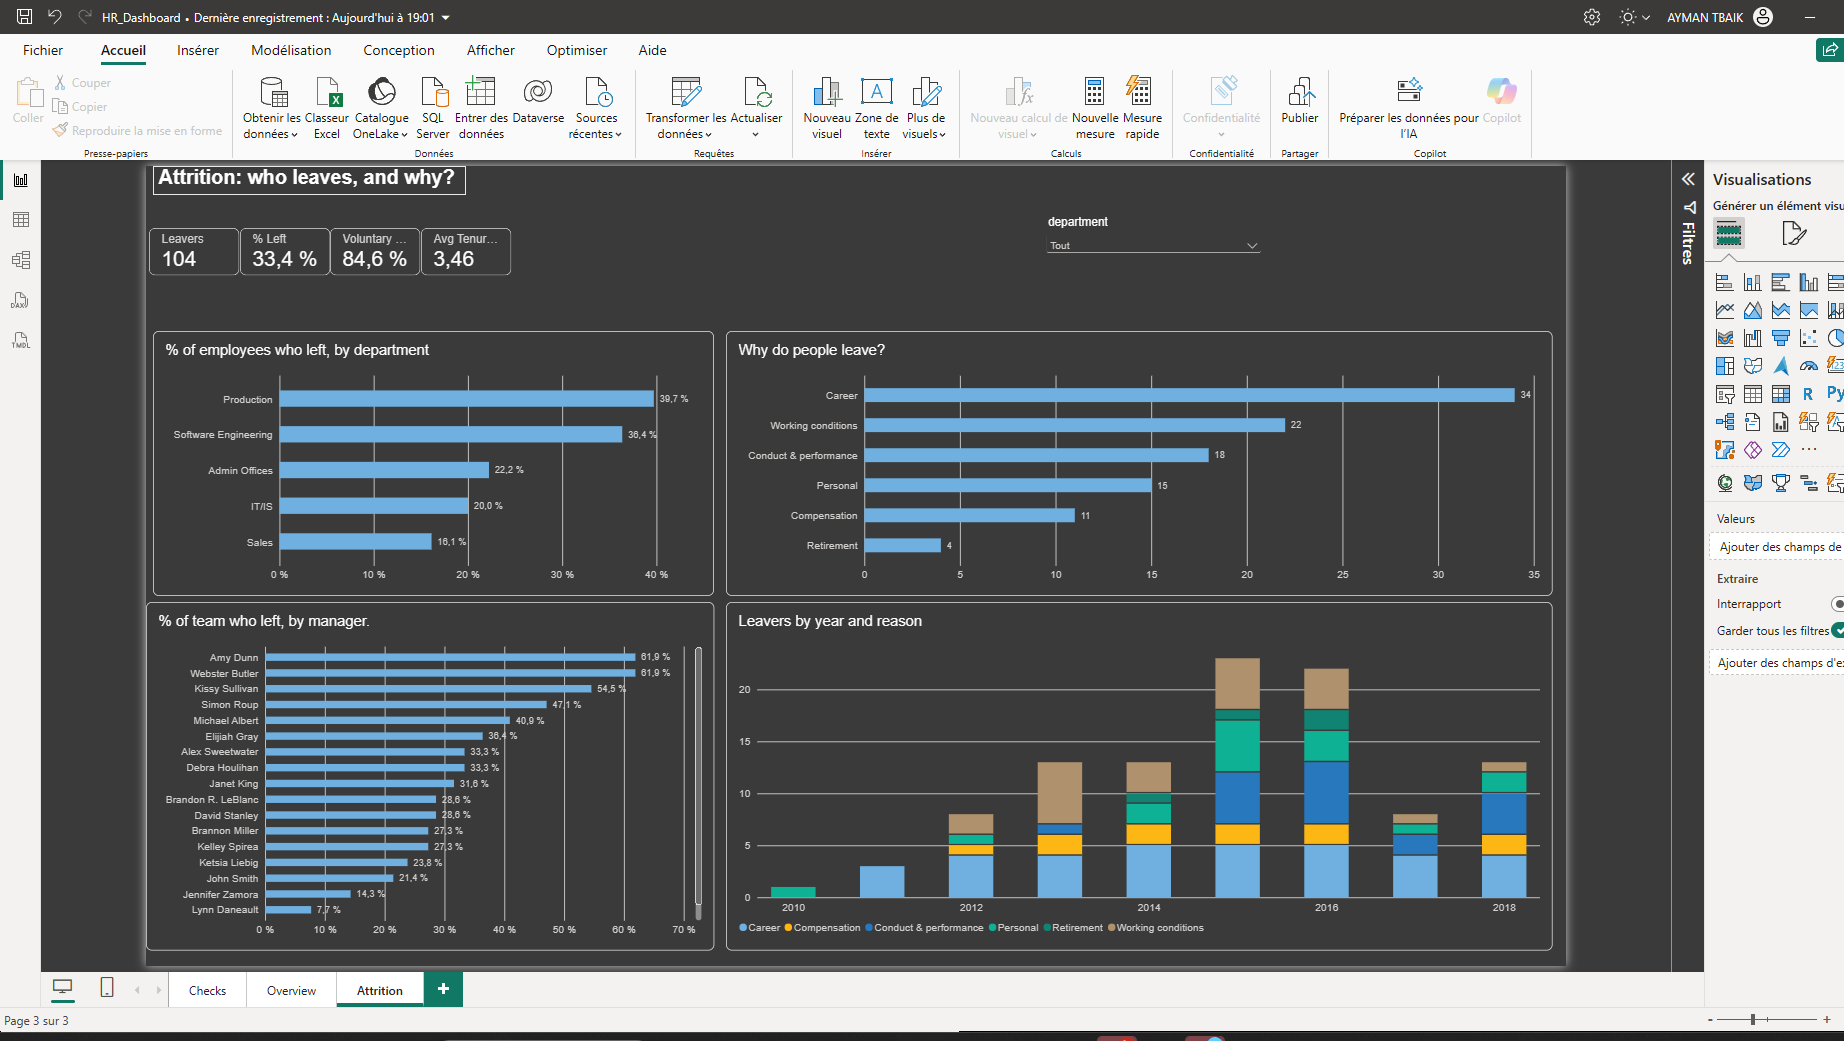

What the dashboard file says about the page in this screenshot:
{"tool":"powerbi","page":{"name":"Attrition","canvas":[1920,1080],"ordinal":2},"visuals":[{"type":"shape","box":[0,0,1920,96],"z":0},{"type":"cardVisual","fields":{"Data":["_Measures.Leavers"]},"box":[36,120,444,135],"z":2000},{"type":"cardVisual","fields":{"Data":["_Measures.% Left"]},"box":[504,120,444,135],"z":3000},{"type":"cardVisual","fields":{"Data":["_Measures.Voluntary Share"]},"box":[972,120,444,135],"z":4000},{"type":"cardVisual","fields":{"Data":["_Measures.Avg Tenure of Leavers"]},"box":[1440,120,444,135],"z":5000},{"type":"clusteredBarChart","title":"Why do people leave?","fields":{"Category":["dim_term_reason.term_reason_category"],"Y":["_Measures.Leavers"]},"box":[972,279,912,377],"z":6000},{"type":"clusteredBarChart","title":"% of employees who left, by department","fields":{"Category":["dim_department.department_name"],"Y":["_Measures.% Left"]},"box":[36,279,912,377],"z":7000},{"type":"clusteredBarChart","title":"% of team who left, by manager.","fields":{"Category":["dim_manager.manager_name"],"Y":["_Measures.% Left"]},"box":[36,680,912,377],"z":8000},{"type":"columnChart","title":"Leavers by year and reason","fields":{"Category":["dim_date.year"],"Series":["dim_term_reason.term_reason_category"],"Y":["_Measures.Leavers by Termination Date"]},"box":[972,680,912,377],"z":9000},{"type":"slicer","fields":{"Values":["dim_date.year"]},"box":[1644,12,240,72],"z":10000},{"type":"slicer","fields":{"Values":["dim_department.department_name"]},"box":[1320,12,300,72],"z":11000}]}

Visuals, with their boxes on the page's 1920x1080 design canvas (x1, y1, x2, y2). These are canvas units, not pixel positions in the 1844x1041 screenshot, which may show the page scaled, cropped or inside an application window:
shape: Rect(0, 0, 1920, 96)
cardVisual - _Measures.Leavers: Rect(36, 120, 480, 255)
cardVisual - _Measures.% Left: Rect(504, 120, 948, 255)
cardVisual - _Measures.Voluntary Share: Rect(972, 120, 1416, 255)
cardVisual - _Measures.Avg Tenure of Leavers: Rect(1440, 120, 1884, 255)
"Why do people leave?" clusteredBarChart: Rect(972, 279, 1884, 656)
"% of employees who left, by department" clusteredBarChart: Rect(36, 279, 948, 656)
"% of team who left, by manager." clusteredBarChart: Rect(36, 680, 948, 1057)
"Leavers by year and reason" columnChart: Rect(972, 680, 1884, 1057)
slicer - dim_date.year: Rect(1644, 12, 1884, 84)
slicer - dim_department.department_name: Rect(1320, 12, 1620, 84)
